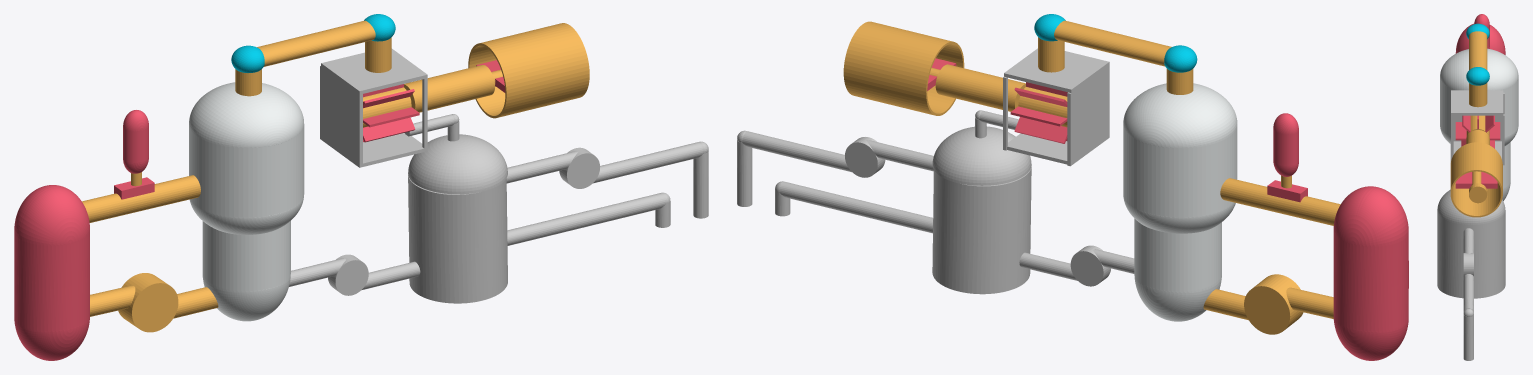
3 renders of one model, left to right at view 1: azimuth 30°, elevation 25°; view 2: azimuth 150°, elevation 25°; view 3: azimuth 270°, elevation 25°, orthographic. The views are drawn at different scales.
Parts seen in each view (by area): view 1: imagetostl_mesh0; view 2: imagetostl_mesh0; view 3: imagetostl_mesh0.
Part boxes in pixels (box(x1,y1,x2,y2)): imagetostl_mesh0: box(14, 14, 708, 360); imagetostl_mesh0: box(737, 14, 1408, 360); imagetostl_mesh0: box(1437, 14, 1518, 360).
Bounding box in the file's own units: 204 × 81 × 31.
